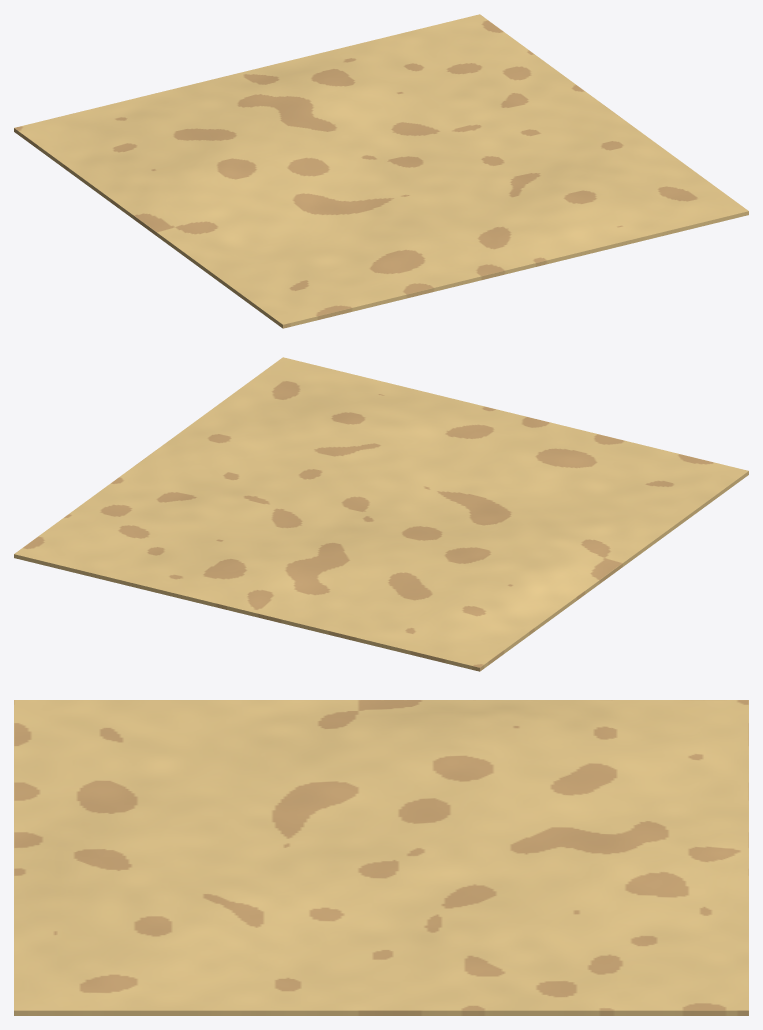
File: Desert_Flat_05.obj
3 views of the same model, one above another, from view 1: azimuth 30°, elevation 25°; view 2: azimuth 150°, elevation 25°; view 3: azimuth 270°, elevation 25° (orthographic). The views are drawn at different scales.
Bounding box in the file's own units: 10 × 0.2676 × 10.
Materials: 1 (1 with a texture image).
